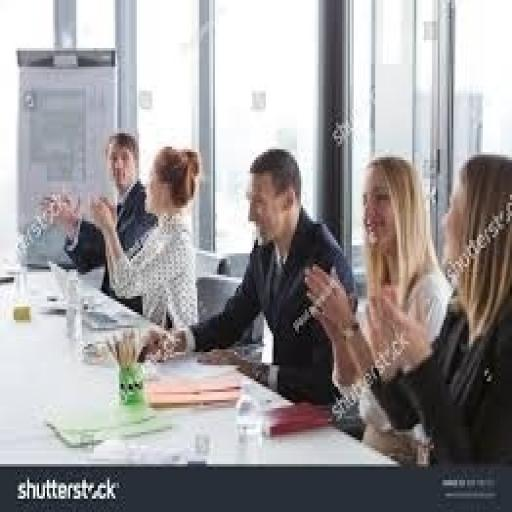clapping: (392, 68, 512, 469), (296, 144, 428, 448), (82, 142, 242, 336), (54, 107, 178, 343)
